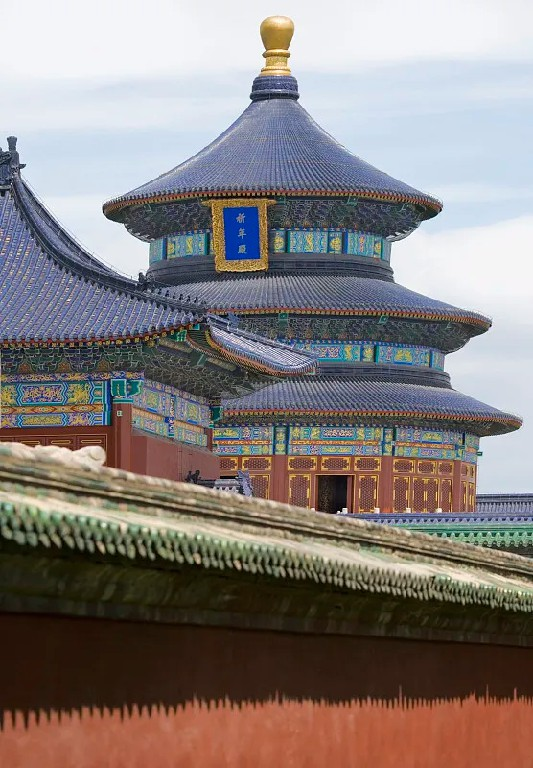Heaven: (100, 21, 523, 509)
